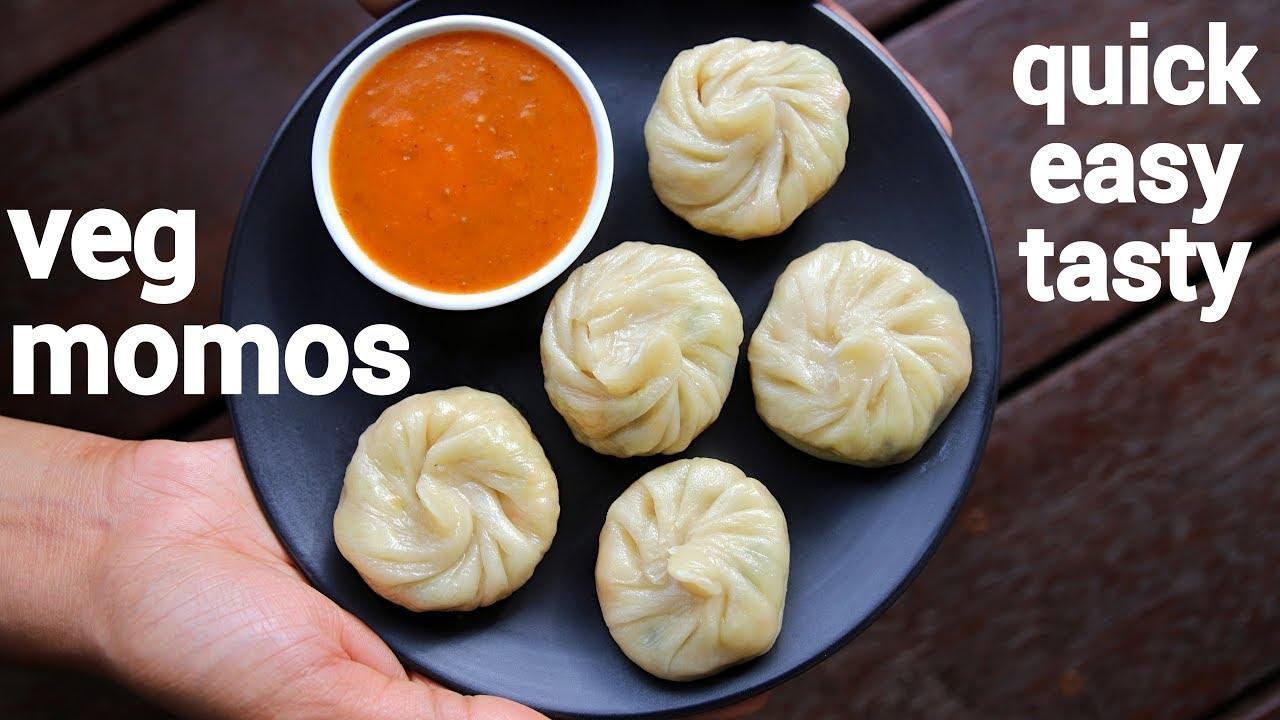momos: (748, 240, 972, 468), (332, 388, 558, 611), (595, 458, 790, 680), (540, 243, 742, 456), (645, 38, 850, 240)
